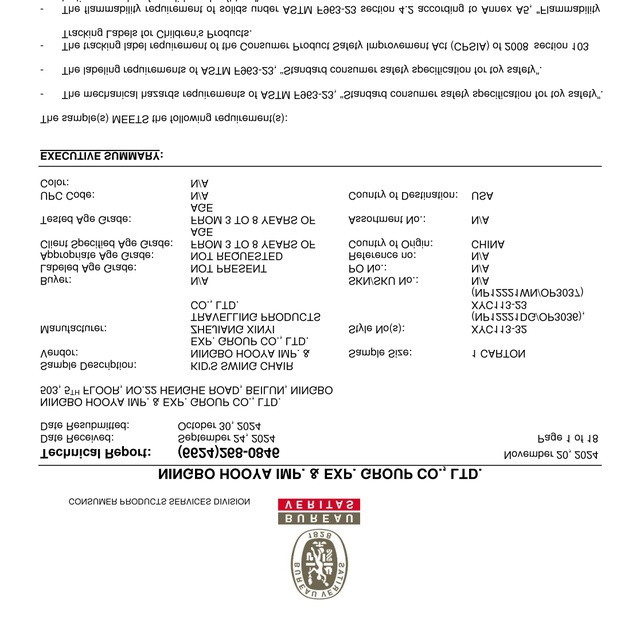bureau_veritas: (270, 492, 365, 604)
